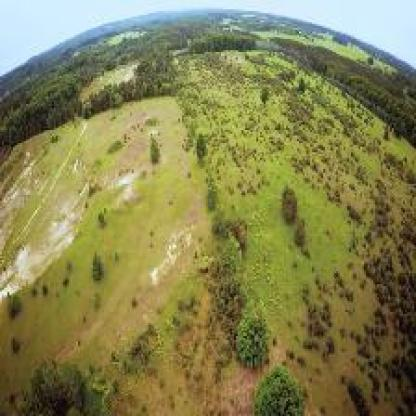other: (9, 198, 88, 278)
